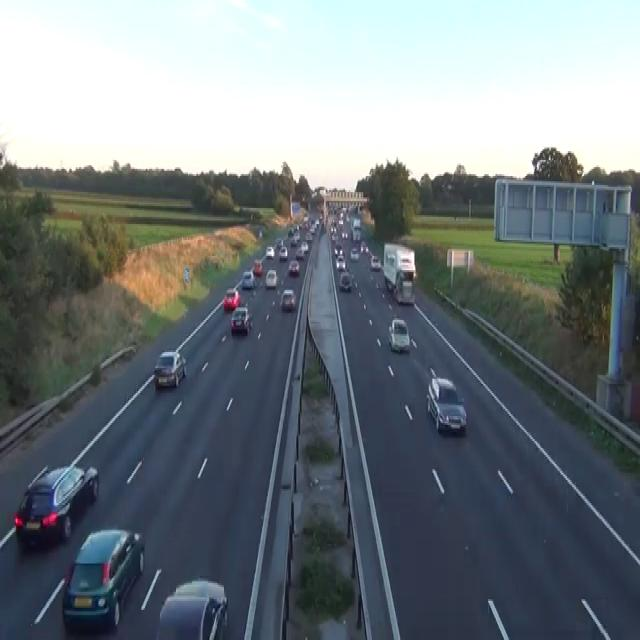Car: (61, 528, 145, 629), (14, 462, 99, 548), (155, 576, 228, 638), (426, 375, 467, 434), (153, 350, 186, 388), (388, 318, 410, 352), (393, 270, 415, 304), (230, 306, 252, 334), (397, 249, 415, 275), (223, 288, 240, 311), (280, 288, 296, 311), (238, 306, 253, 329), (241, 268, 255, 288), (265, 268, 277, 288), (339, 272, 351, 292), (288, 258, 300, 276), (252, 258, 263, 276), (335, 254, 346, 270), (370, 254, 380, 270), (350, 246, 359, 262), (334, 244, 344, 258), (278, 246, 287, 260), (352, 228, 361, 242), (265, 245, 274, 258), (295, 247, 304, 260), (352, 217, 361, 229), (275, 236, 283, 249), (300, 240, 308, 252), (360, 240, 368, 252), (304, 231, 312, 242), (290, 237, 297, 246), (341, 230, 348, 238), (360, 240, 364, 252), (338, 217, 343, 226), (258, 228, 262, 238), (288, 228, 293, 236)
Truck: (383, 242, 416, 304), (350, 215, 361, 242)
